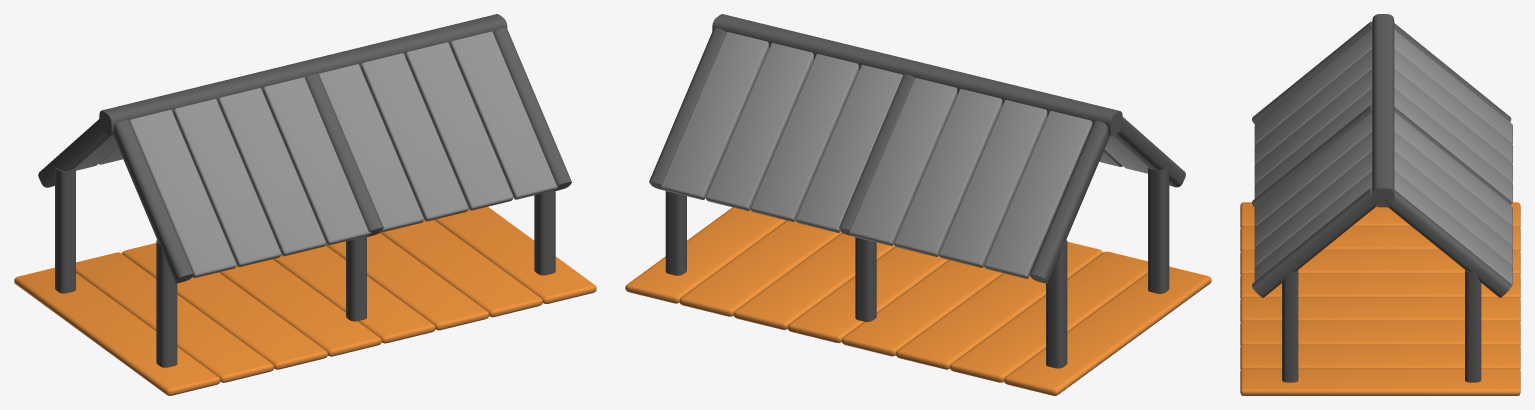
The model's file is Storage level 2.fbx.
The picture shows the model from 3 angles, left to right: view 1: azimuth 30°, elevation 25°; view 2: azimuth 150°, elevation 25°; view 3: azimuth 270°, elevation 25°; orthographic projection. The views are drawn at different scales.
Parts seen in each view (by area): view 1: Cylinder.012; view 2: Cylinder.012; view 3: Cylinder.012.
Boxes of the visible parts, x1,y1,x2,y2 form: Cylinder.012: (14,14,596,395); Cylinder.012: (625,14,1211,395); Cylinder.012: (1240,14,1520,395).
Size of the model in its own units: 10263 by 5086 by 6416.
